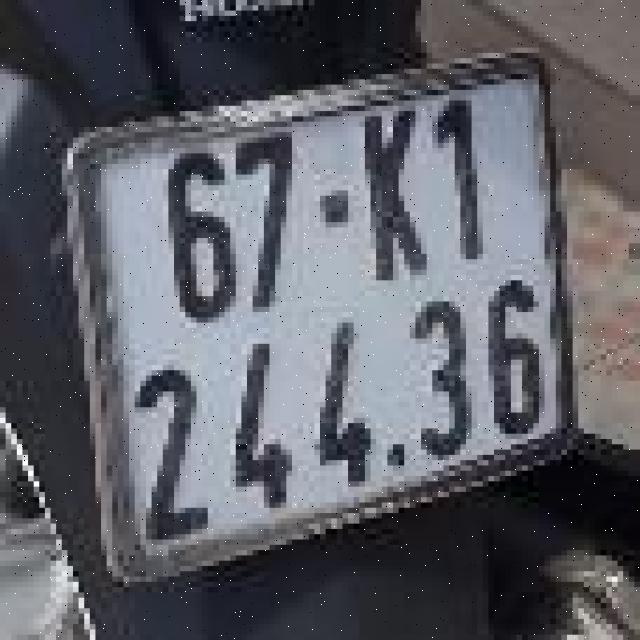1: (435, 87, 497, 278)
2: (112, 354, 219, 550)
3: (398, 293, 482, 463)
4: (298, 307, 382, 492), (225, 325, 303, 521)
6: (154, 132, 244, 328), (483, 280, 561, 444)
7: (236, 114, 309, 309)
K: (343, 103, 421, 283)
